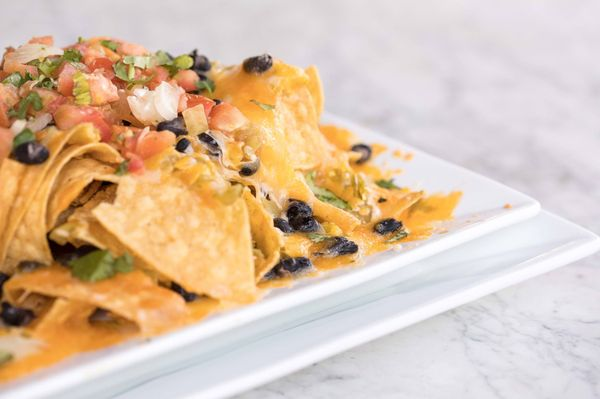sandwich: (1, 33, 417, 309)
